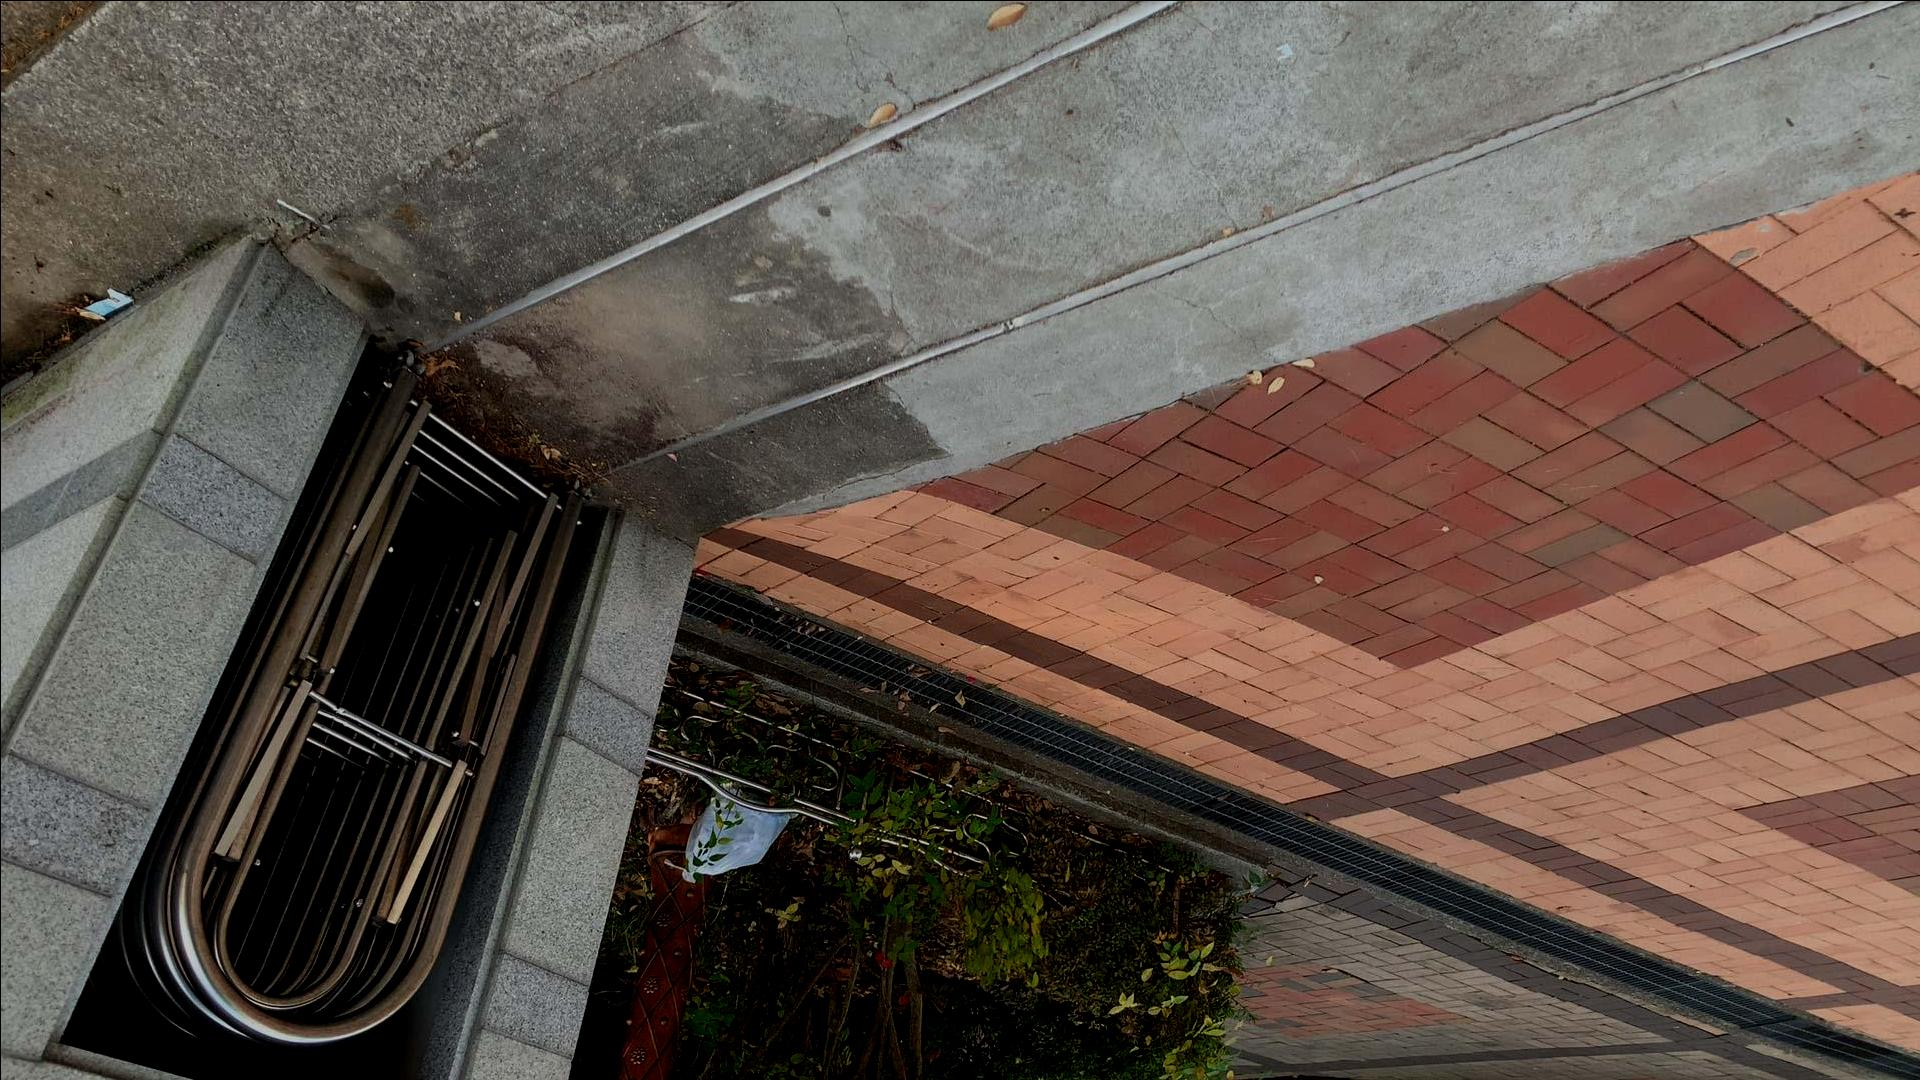white_bag: (663, 773, 800, 893)
